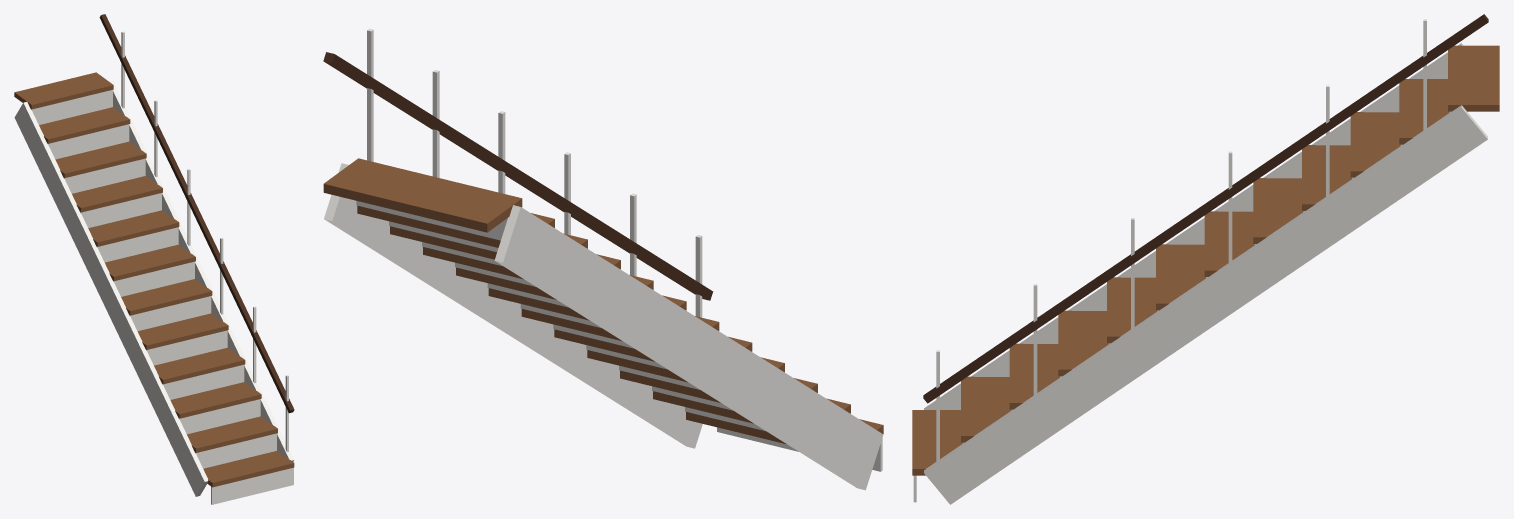
The model's file is stairs.glb.
3 views of the same model, side by side, from view 1: azimuth 30°, elevation 25°; view 2: azimuth 150°, elevation 25°; view 3: azimuth 270°, elevation 25° (orthographic). The views are drawn at different scales.
Parts seen in each view (by area): view 1: stairs; view 2: stairs; view 3: stairs.
Boxes of the visible parts, x1,y1,x2,y2 form: stairs: (14,14,294,504); stairs: (323,28,883,490); stairs: (912,14,1499,504).
Bounding box in the file's own units: 1.05 × 3.69 × 4.02.
